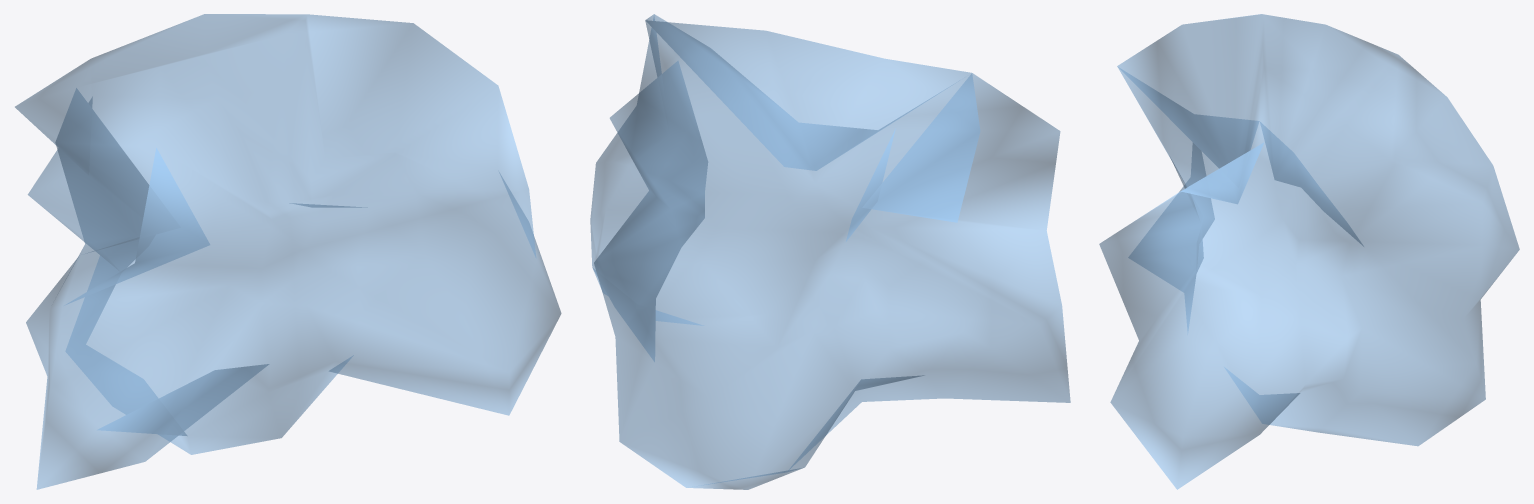
The model's file is mcarrion_shield.gltf.
3 renders of one model, left to right at view 1: azimuth 30°, elevation 25°; view 2: azimuth 150°, elevation 25°; view 3: azimuth 270°, elevation 25°, orthographic. The views are drawn at different scales.
Visible parts, largest first — view 1: mcarrion.shield; view 2: mcarrion.shield; view 3: mcarrion.shield.
Boxes of the visible parts, box(x1,y1,x2,y2) form: mcarrion.shield: box(15, 14, 561, 489); mcarrion.shield: box(590, 14, 1070, 489); mcarrion.shield: box(1099, 14, 1519, 489).
Bounding box in the file's own units: 27.58 × 21.99 × 21.79.
